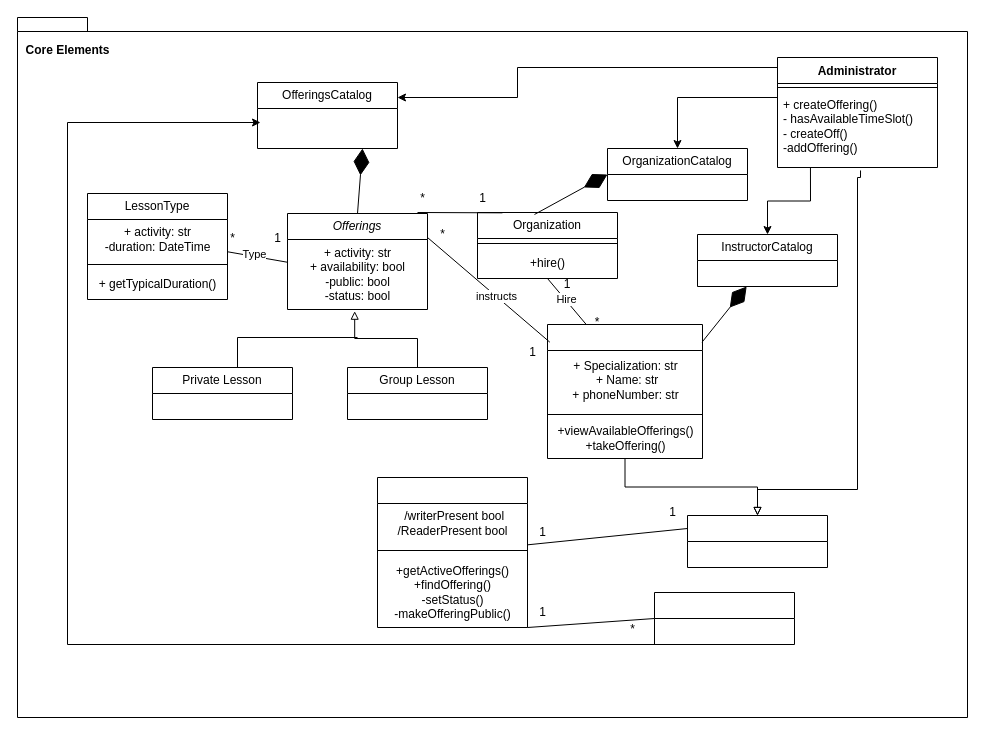
Some shapes in this 985 by 735 pixel diagram are drawn without their labels. The box of each missing label's shape, as (x1, y1, x2, y2) in pixels:
Console: (376, 476, 528, 628)
Instructor: (546, 324, 702, 458)
Reader: (654, 592, 794, 644)
Writer: (686, 514, 828, 568)
